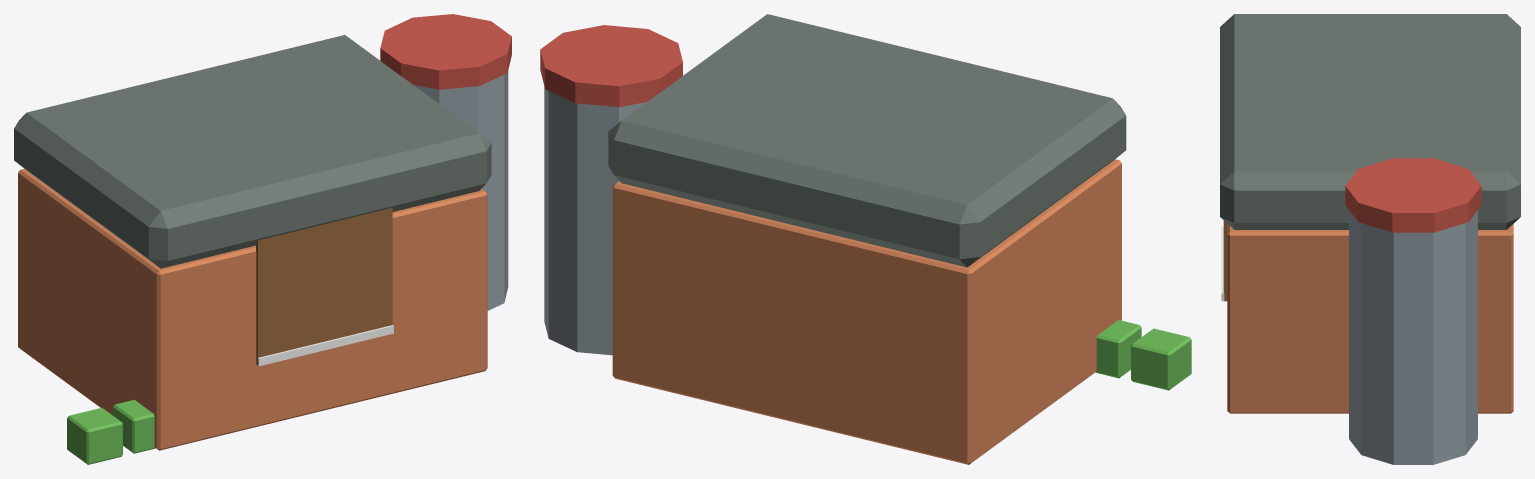
File: barn.fbx
3 views of the same model, side by side, from view 1: azimuth 30°, elevation 25°; view 2: azimuth 150°, elevation 25°; view 3: azimuth 270°, elevation 25° (orthographic). The views are drawn at different scales.
Parts seen in each view (by area): view 1: barn; view 2: barn; view 3: barn.
Boxes of the visible parts, x1,y1,x2,y2 form: barn: (14, 14, 511, 464); barn: (540, 14, 1191, 464); barn: (1220, 14, 1520, 464).
Size of the model in its own units: 8.2 by 3.9 by 4.2.
